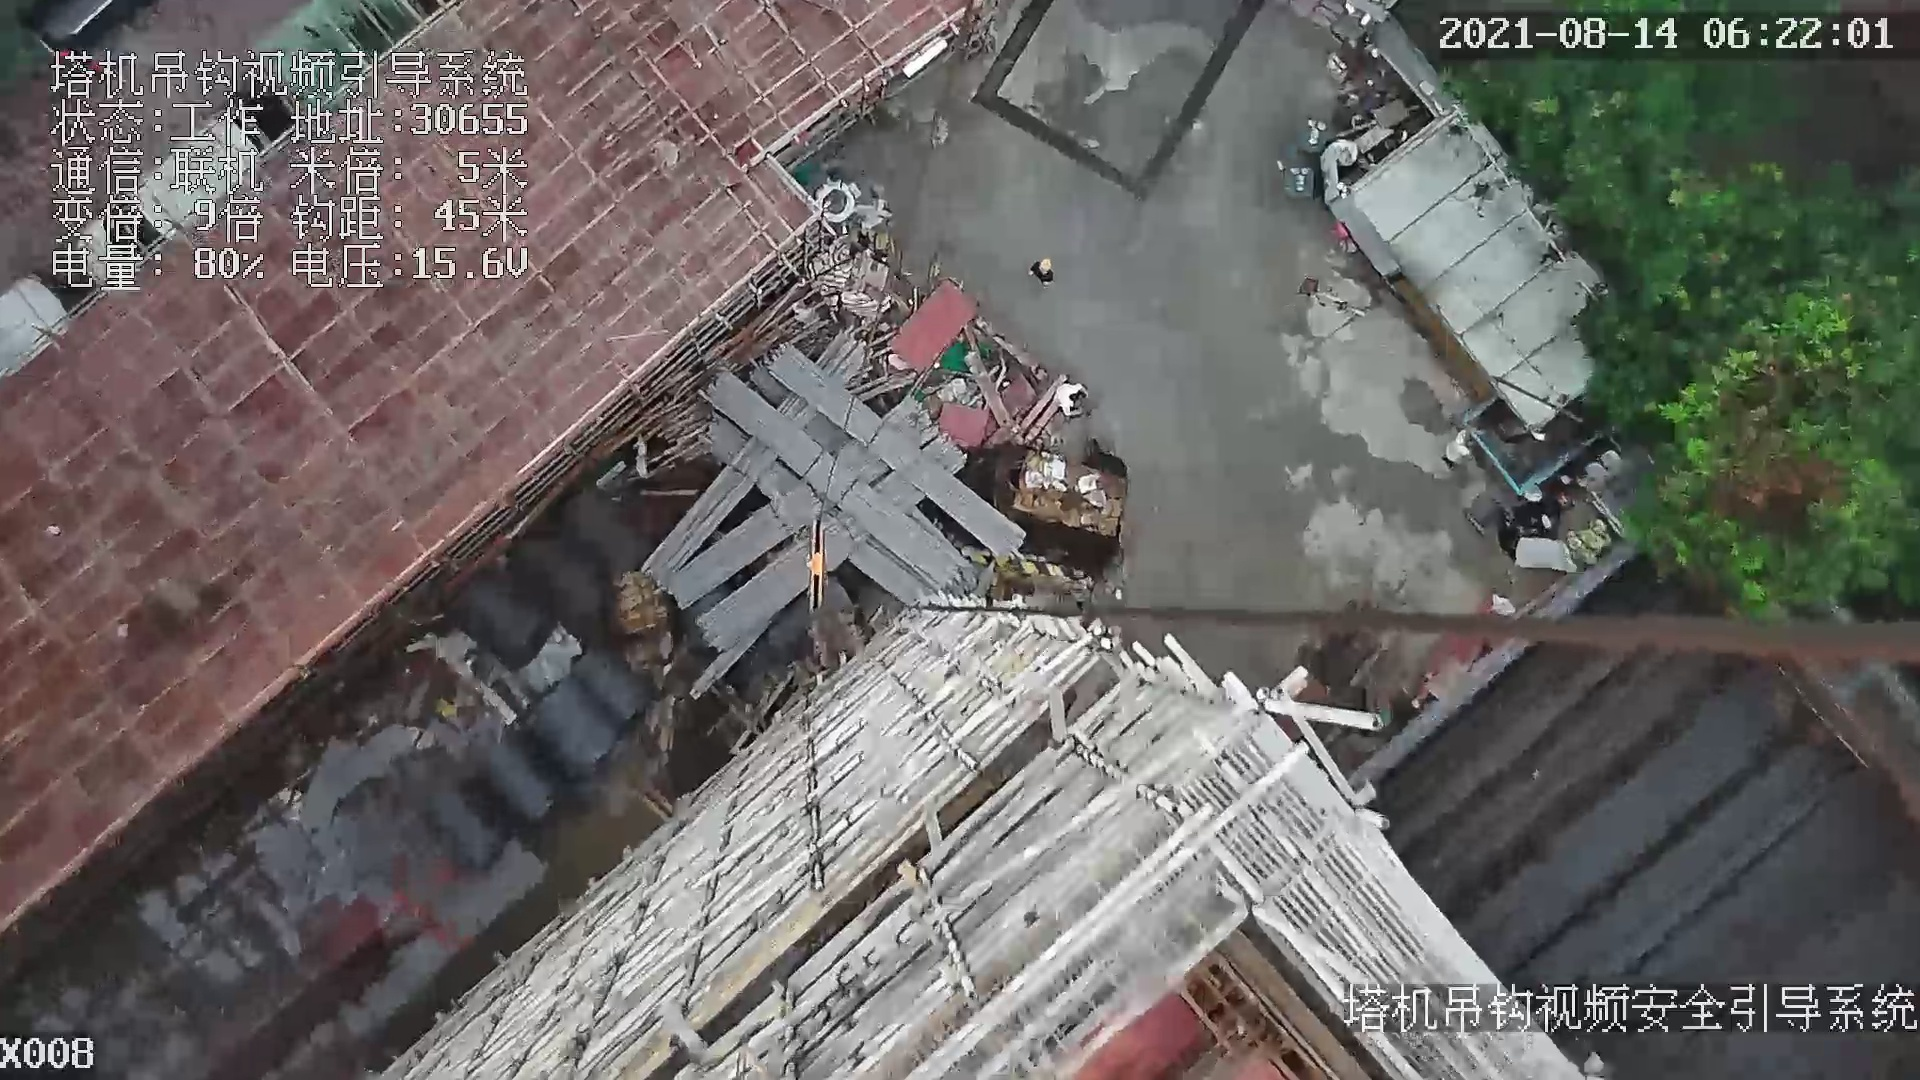hook: (804, 516, 823, 615)
